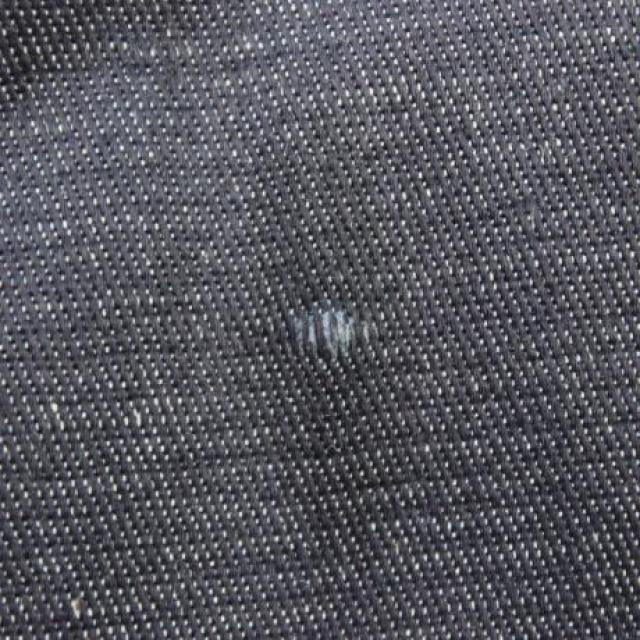Thread_other: (155, 206, 453, 464)
